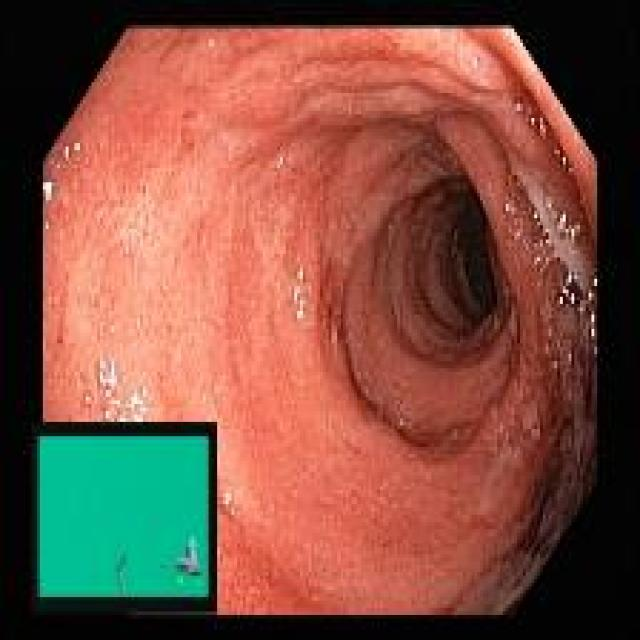ulcerative-colitis: (44, 28, 596, 614)
